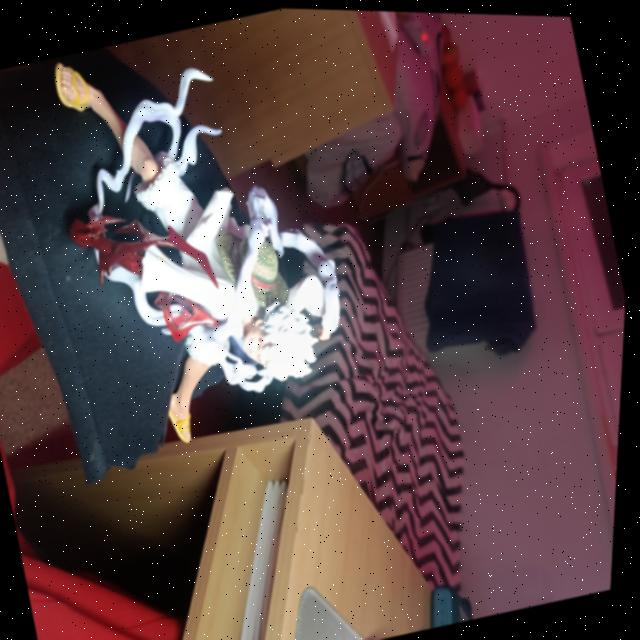luffy: (20, 1, 386, 463)
